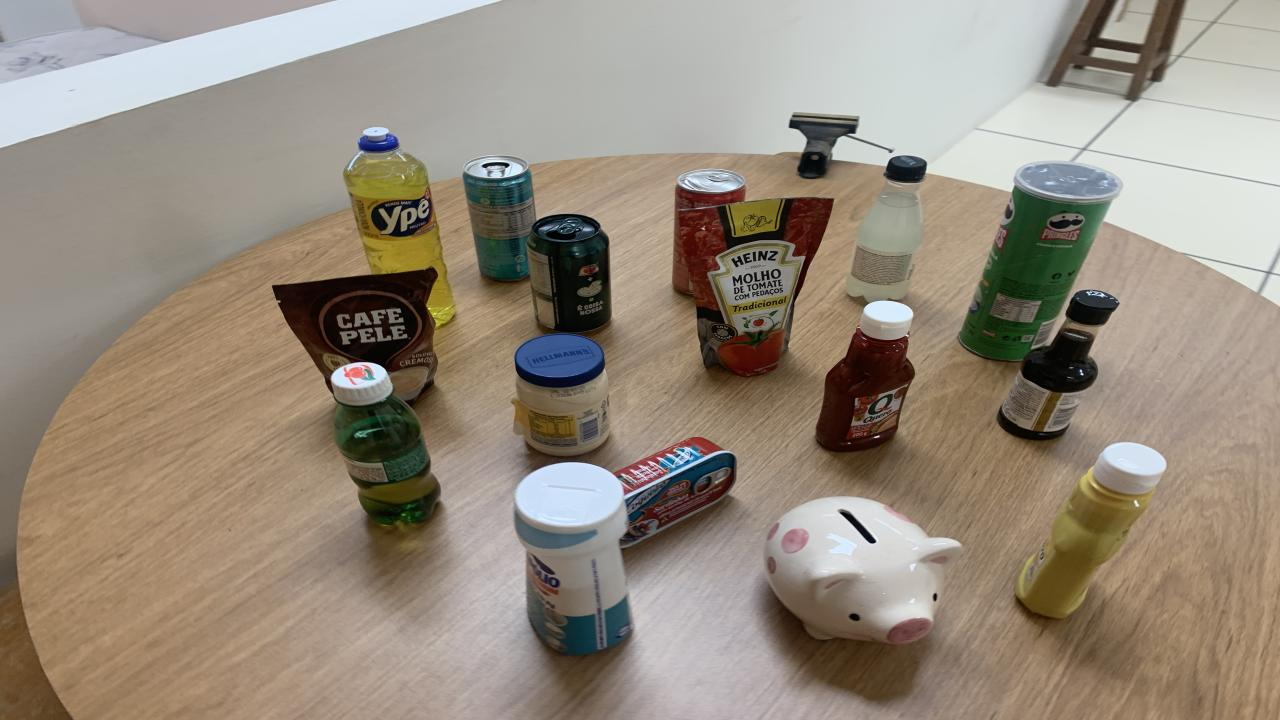Cleaner-Cleanup_Items: (515, 463, 632, 656)
Coffee-Pantry_Items: (272, 268, 438, 401)
Coke-Drinks: (675, 169, 745, 212), (672, 216, 692, 294)
Detergent-Cleanup_Items: (342, 128, 455, 324)
English_Sauce-Pantry_Items: (998, 291, 1118, 441)
Guarana-Drinks: (330, 362, 440, 525)
Guarana_Can-Drinks: (528, 214, 612, 332)
Ketchup-Pantry_Items: (815, 300, 915, 452)
Mayonnaise-Pantry_Items: (515, 334, 610, 456)
Mustard-Pantry_Items: (1015, 442, 1168, 617)
Pig_Safe-Miscellaneous: (765, 497, 962, 645)
Pringles-Snacks: (960, 161, 1122, 360)
Soda-Drinks: (848, 156, 928, 302)
Tea-Drinks: (462, 156, 538, 281)
Tomato_Sauce-Pantry_Items: (678, 197, 832, 375)
Tuna_Can-Pantry_Items: (615, 437, 738, 548)
